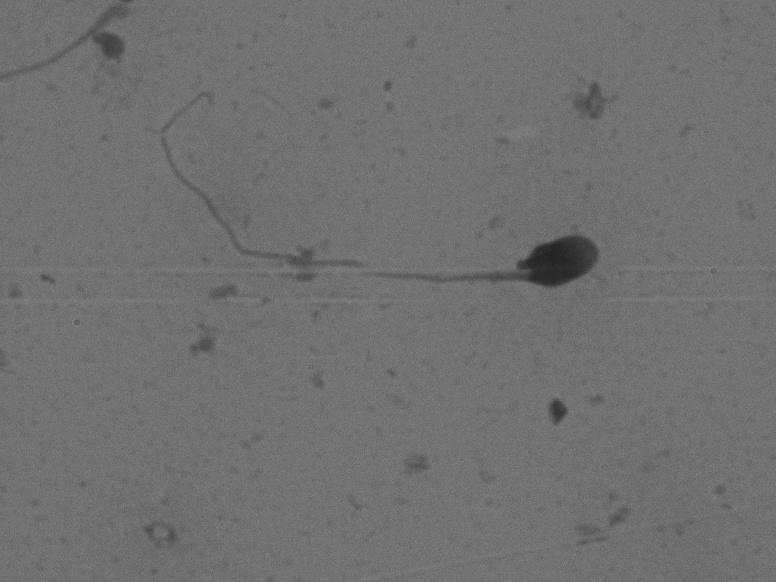Abnormal: (133, 88, 637, 349)
